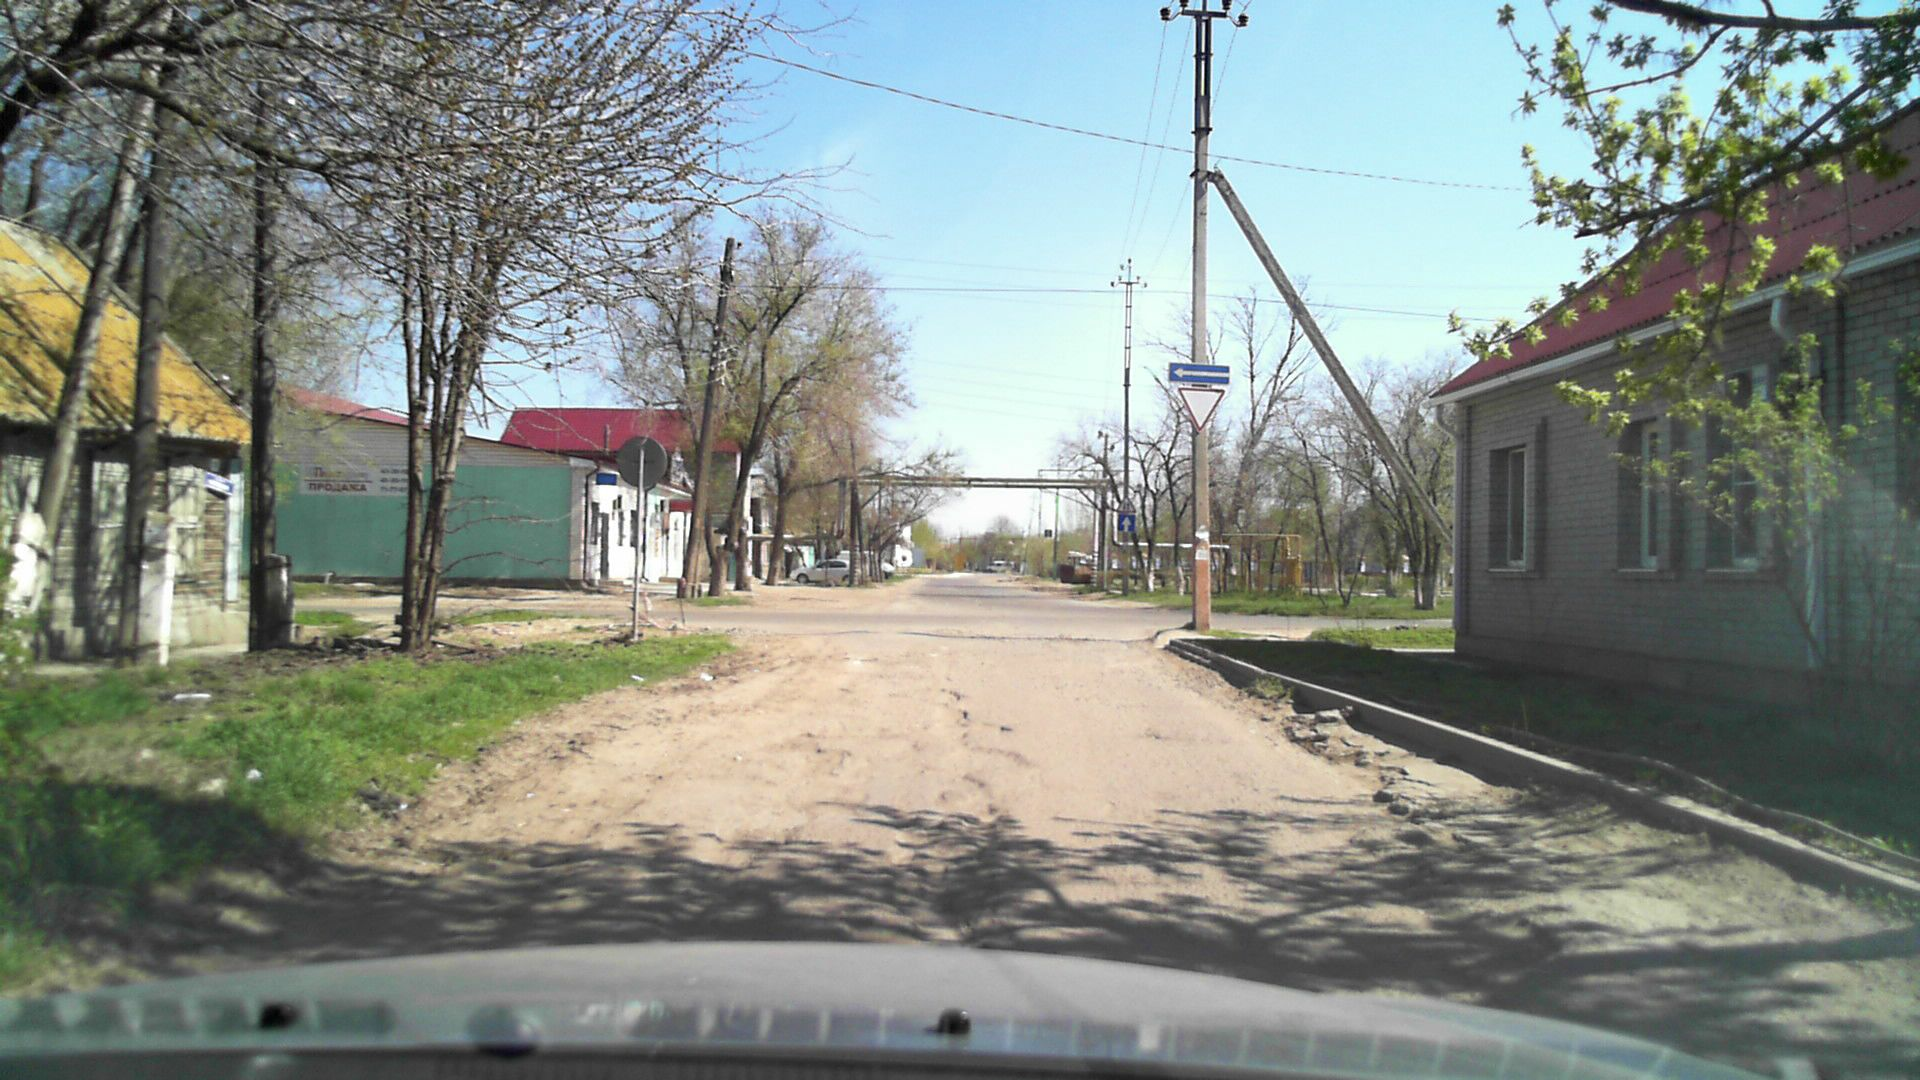One-Way Traffic: (1168, 363, 1230, 384)
